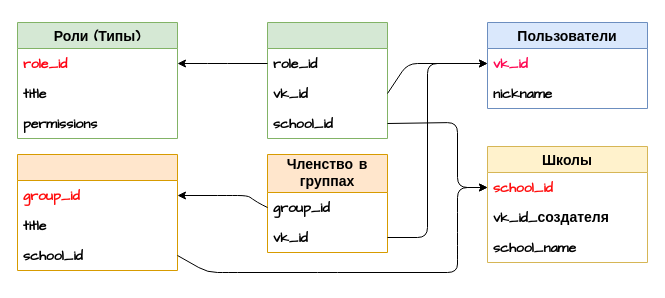
The diagram is 665 pixels wide and 298 high, and some of its shapes have lost their labels. Each missing label, with the box of its shape:
Группы: (16, 154, 178, 270)
Роли участников: (266, 22, 388, 138)
